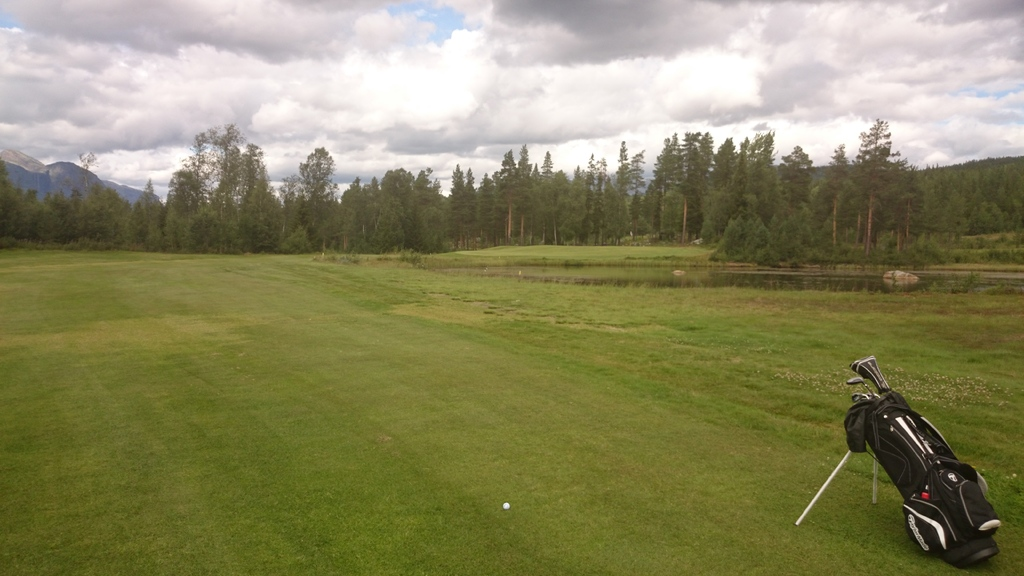Tree: (0, 122, 1023, 266)
